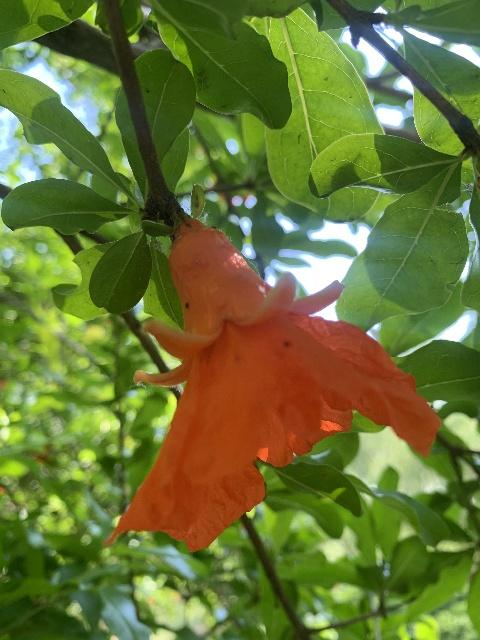flower: (111, 217, 441, 554)
